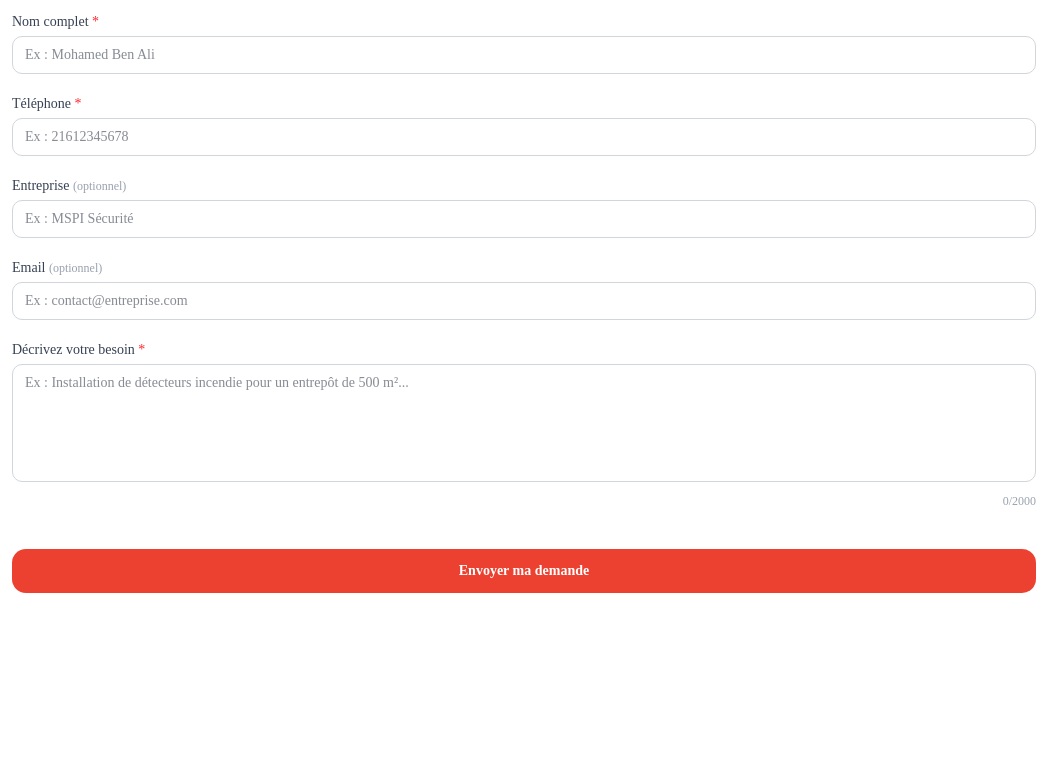
Scenario: QuoteForm › shows success banner after successful submit
In the field with placeholder "Ex : Mohamed Ben Ali": (524, 55) [12, 36, 1036, 74], type "Test User"
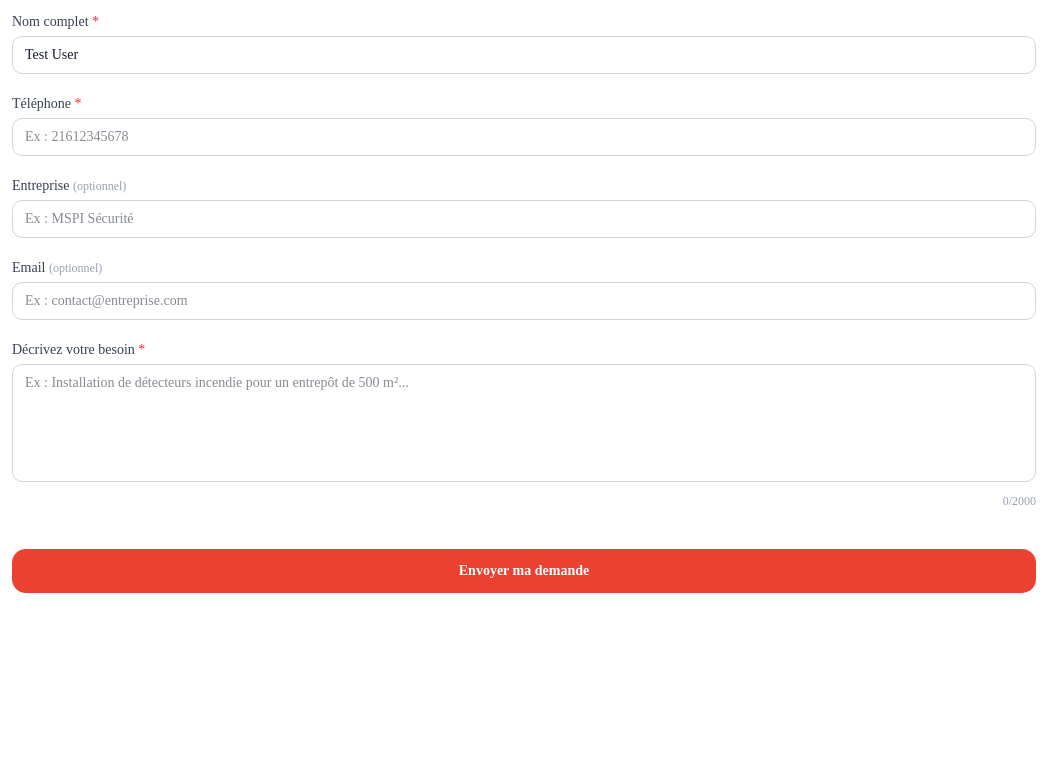
In the field with placeholder "Ex : 21612345678": (524, 137) [12, 118, 1036, 156], type "21699887766"
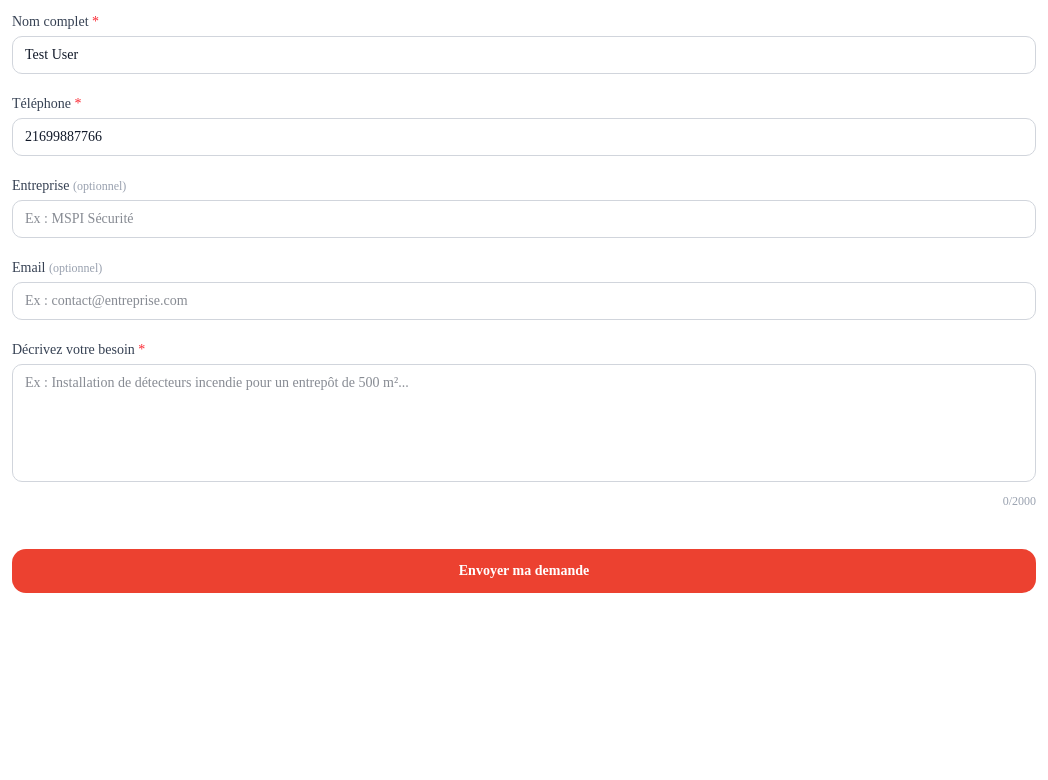
Replace the text in the text box with placeholder "Installation de détecteurs incendie pour un entrepôt de 500 m²" with "Besoin détaillé pour une installation complète de sécurité": (524, 423) [12, 364, 1036, 482]
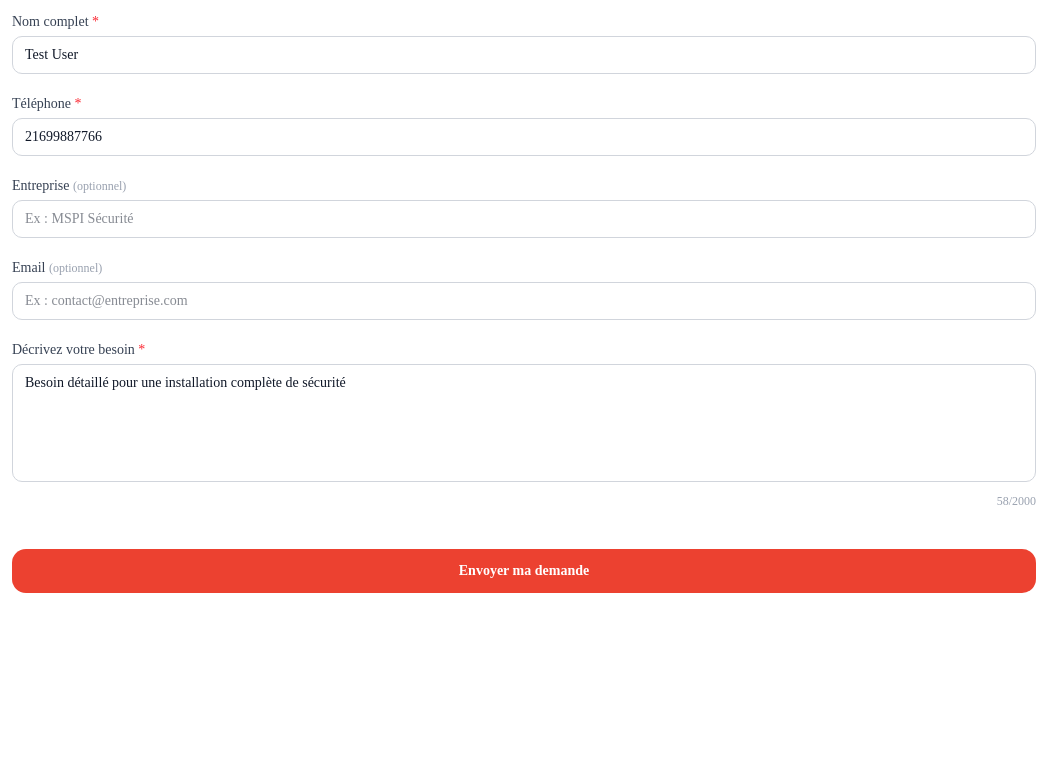
Click the button "Envoyer ma demande": (524, 571) [12, 549, 1036, 593]
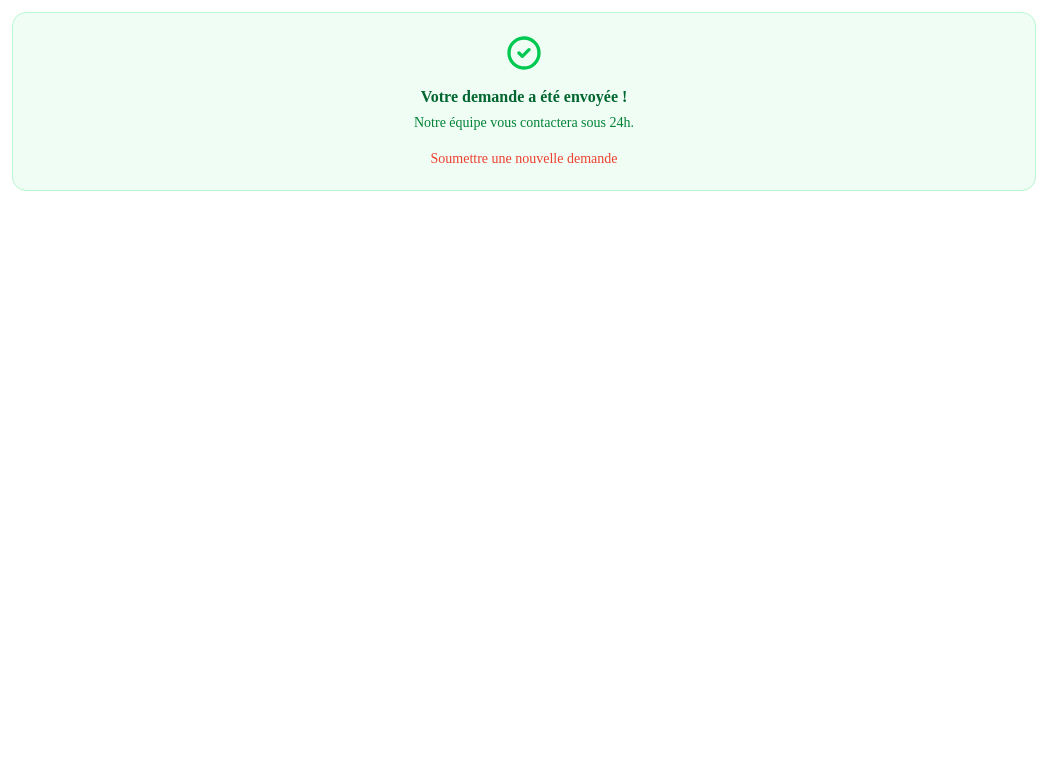
Expected: the text "Votre demande a été envoyée !" is shown, [421, 88, 627, 105]
Expected: the text "Notre équipe vous contactera sous 24h." is shown, [414, 115, 634, 130]
